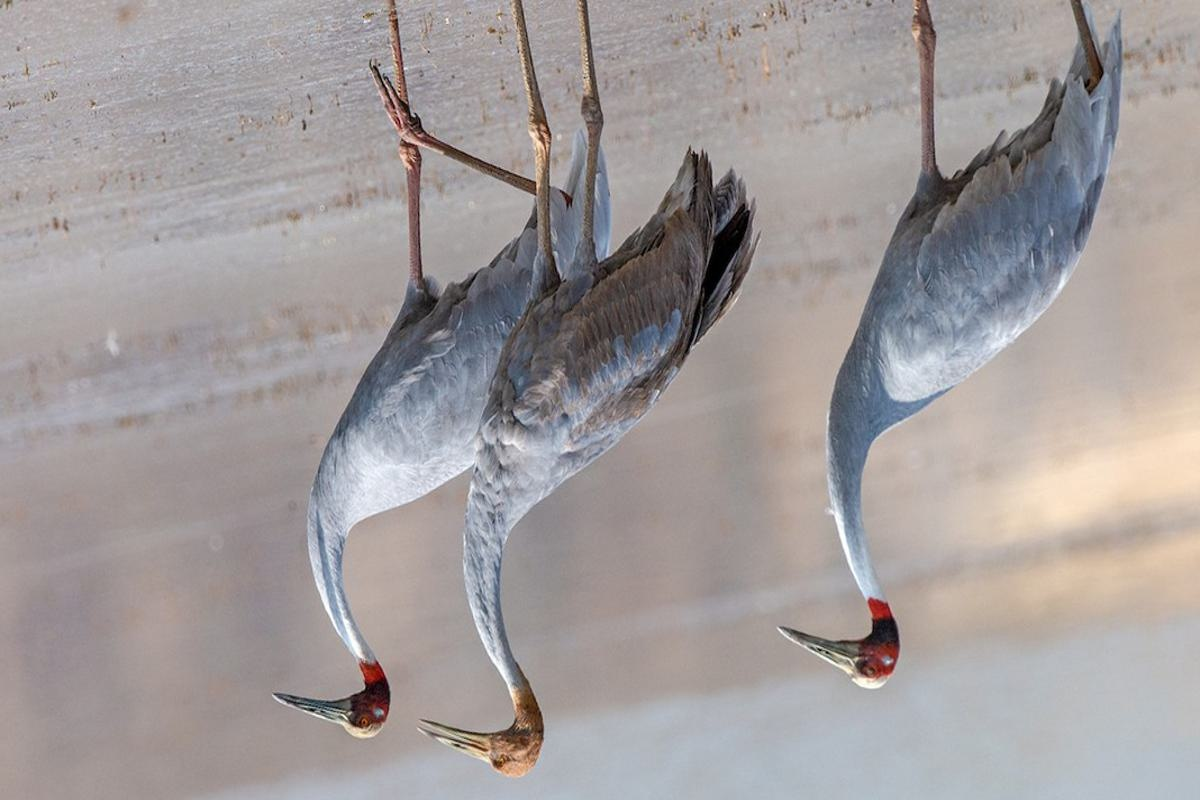crane: (771, 1, 1200, 722), (413, 1, 740, 780), (267, 1, 569, 752)
